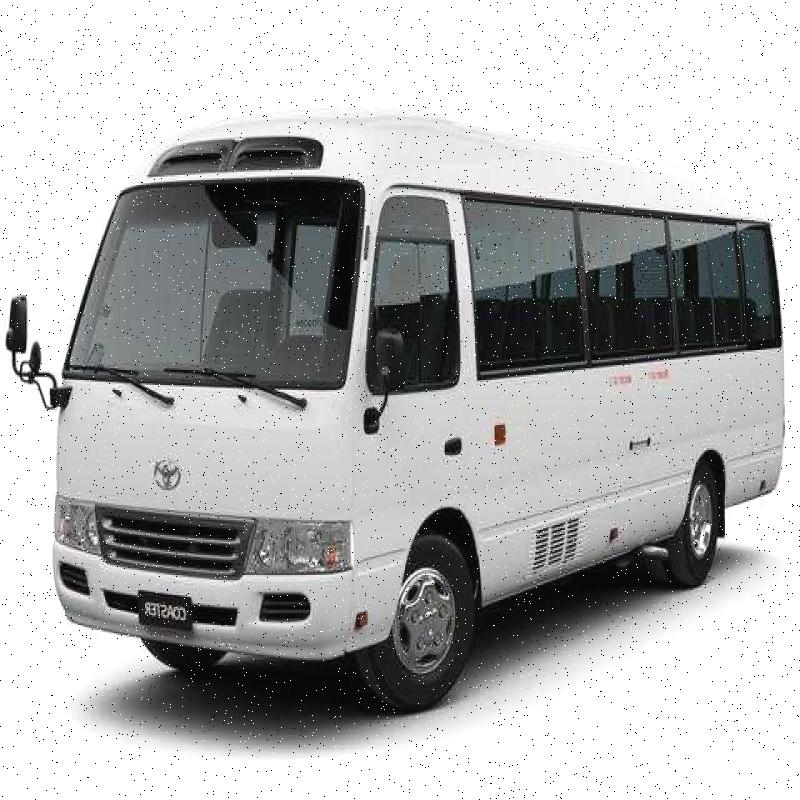bus: (14, 152, 774, 714)
